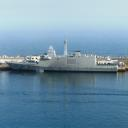Fragata: (4, 25, 120, 76)
